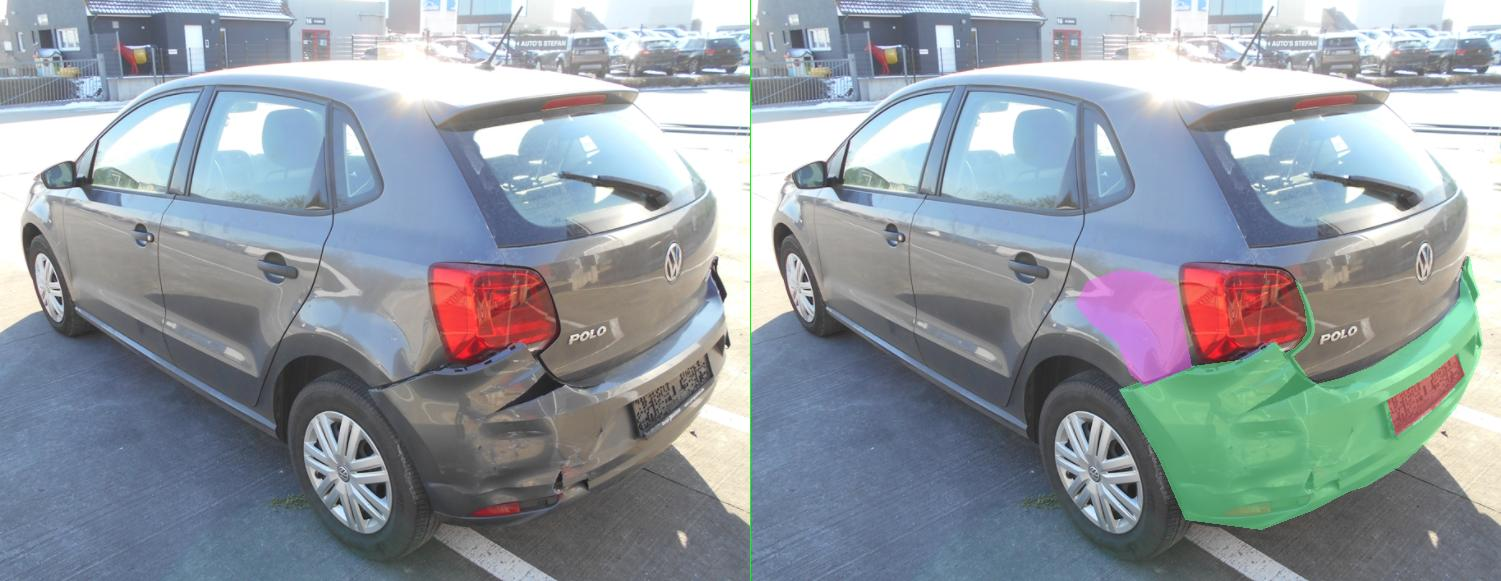Broken part: (736, 256, 1463, 529), (1065, 280, 1127, 377)
Dent: (648, 270, 881, 385)
Missing part: (1273, 354, 1427, 435)
